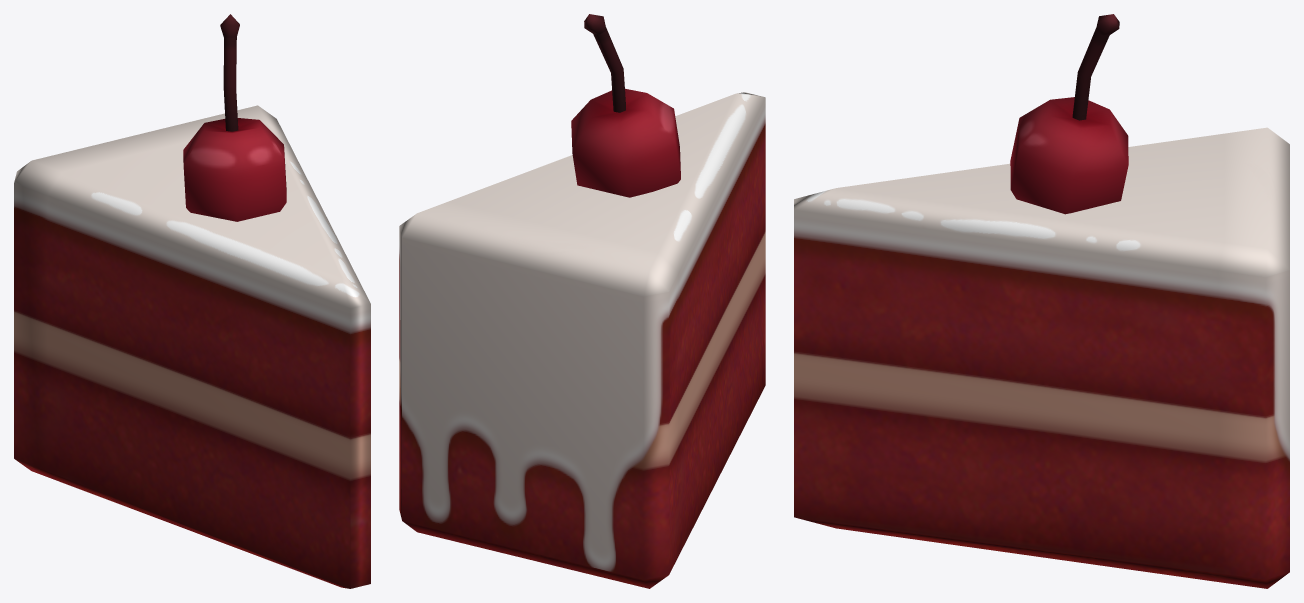
File: Velvet_Slice.fbx
3 views of the same model, side by side, from view 1: azimuth 30°, elevation 25°; view 2: azimuth 150°, elevation 25°; view 3: azimuth 270°, elevation 25° (orthographic). The views are drawn at different scales.
Parts seen in each view (by area): view 1: Velvet_Slice; view 2: Velvet_Slice; view 3: Velvet_Slice.
Boxes of the visible parts, left/top/right/bottom form: Velvet_Slice: left=14, top=14, right=370, bottom=588; Velvet_Slice: left=399, top=14, right=765, bottom=588; Velvet_Slice: left=794, top=14, right=1289, bottom=588.
Size of the model in its own units: 26.02 by 45.14 by 38.81.
